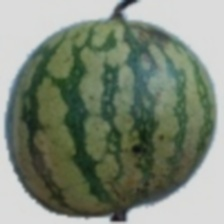watermelon: (39, 36, 197, 189)
